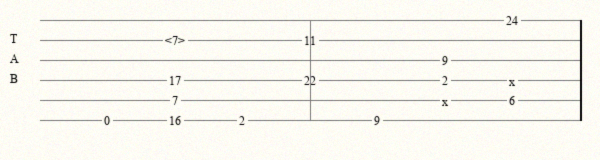0: (104, 114, 114, 127)
11: (304, 34, 320, 47)
16: (169, 114, 185, 127)
17: (169, 74, 185, 87)
2: (239, 114, 249, 127), (442, 74, 452, 87)
22: (304, 74, 320, 87)
24: (506, 14, 522, 27)
6: (509, 94, 519, 107)
7: (172, 94, 182, 107)
9: (374, 114, 384, 127), (442, 54, 452, 67)
harmonic: (165, 34, 189, 47)
x: (442, 95, 452, 105), (509, 75, 519, 85)
